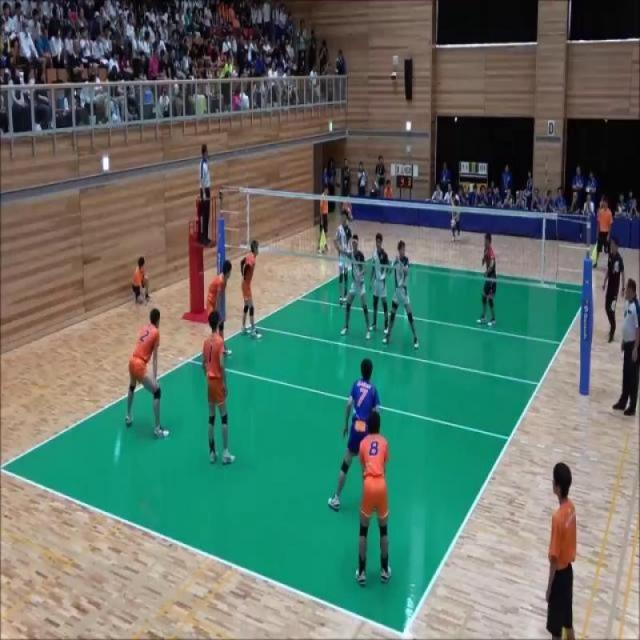volleyball: (450, 219, 457, 228)
